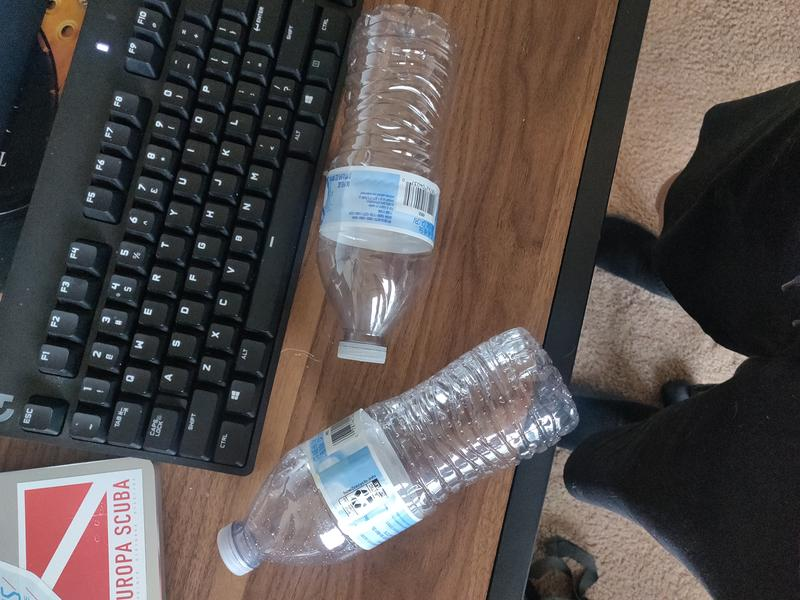bottle: (216, 327, 581, 577), (316, 5, 461, 364)
